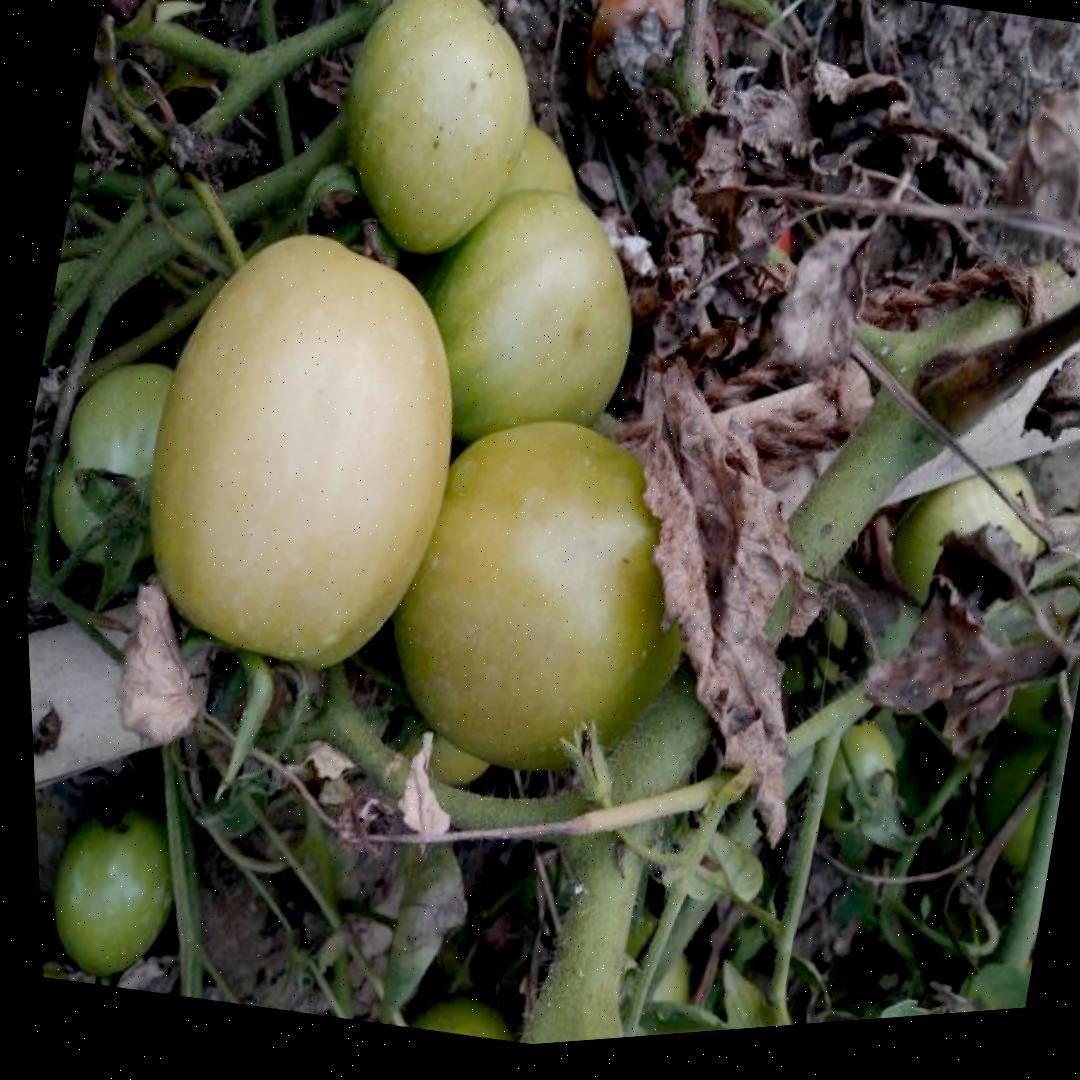mentah: (103, 192, 506, 703), (353, 376, 738, 812), (368, 156, 669, 500), (314, 0, 563, 269), (35, 781, 202, 989)
